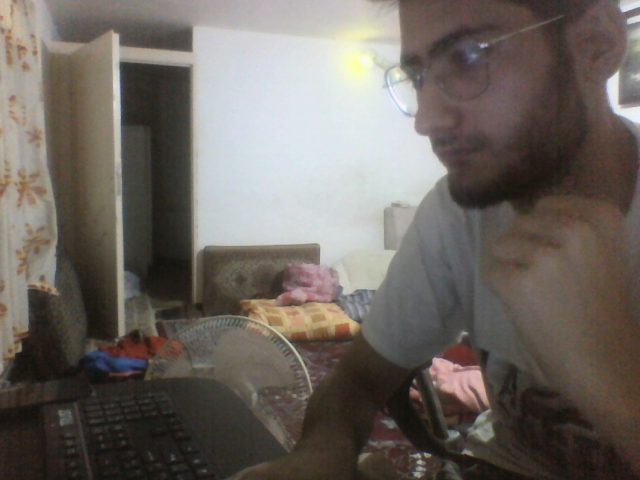attack: (481, 195, 634, 377)
sorat: (396, 2, 626, 206)
